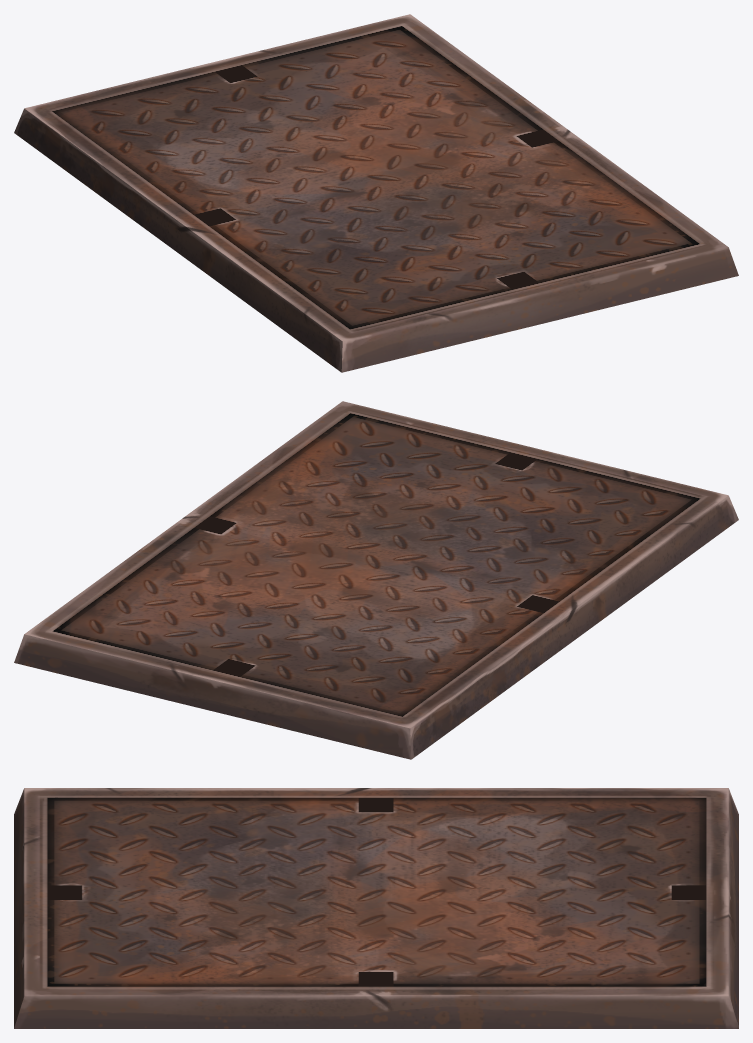
The model's file is manhole05.fbx.
3 renders of one model, top to bottom at view 1: azimuth 30°, elevation 25°; view 2: azimuth 150°, elevation 25°; view 3: azimuth 270°, elevation 25°, orthographic. The views are drawn at different scales.
Parts seen in each view (by area): view 1: manhole05; view 2: manhole05; view 3: manhole05.
Boxes of the visible parts, x1,y1,x2,y2 form: manhole05: (14, 14, 738, 372); manhole05: (14, 401, 738, 759); manhole05: (14, 788, 738, 1028).
Bounding box in the file's own units: 78.2 × 5 × 112.
